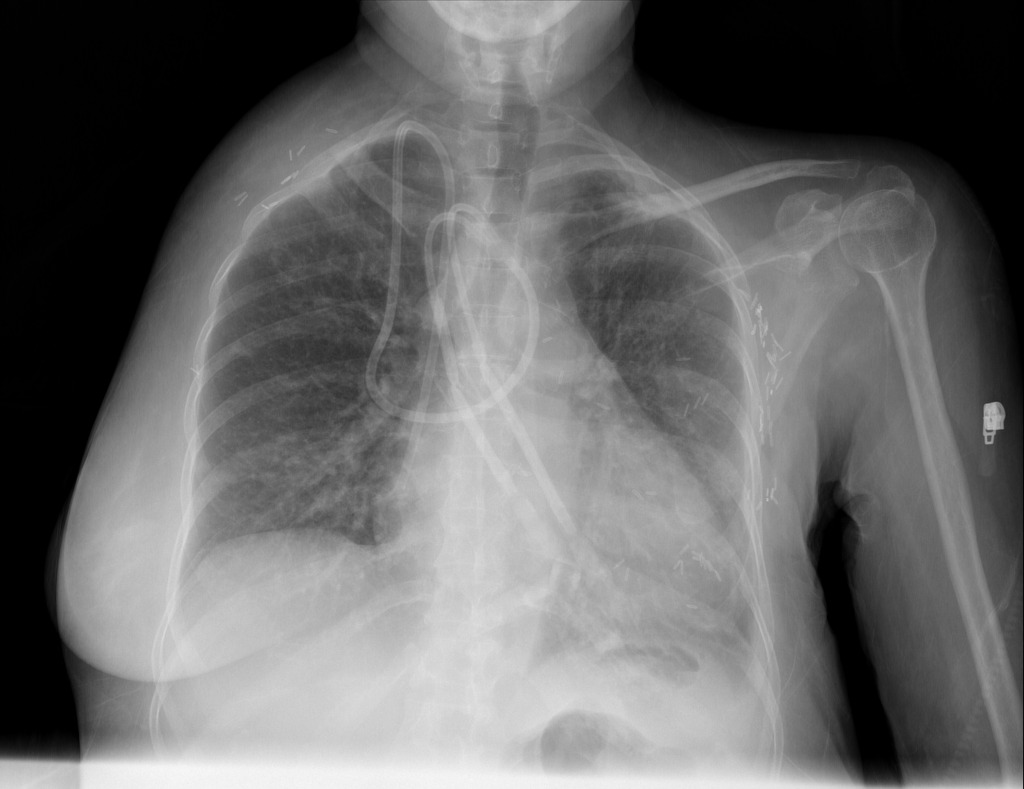cancer: (426, 280, 776, 665)
